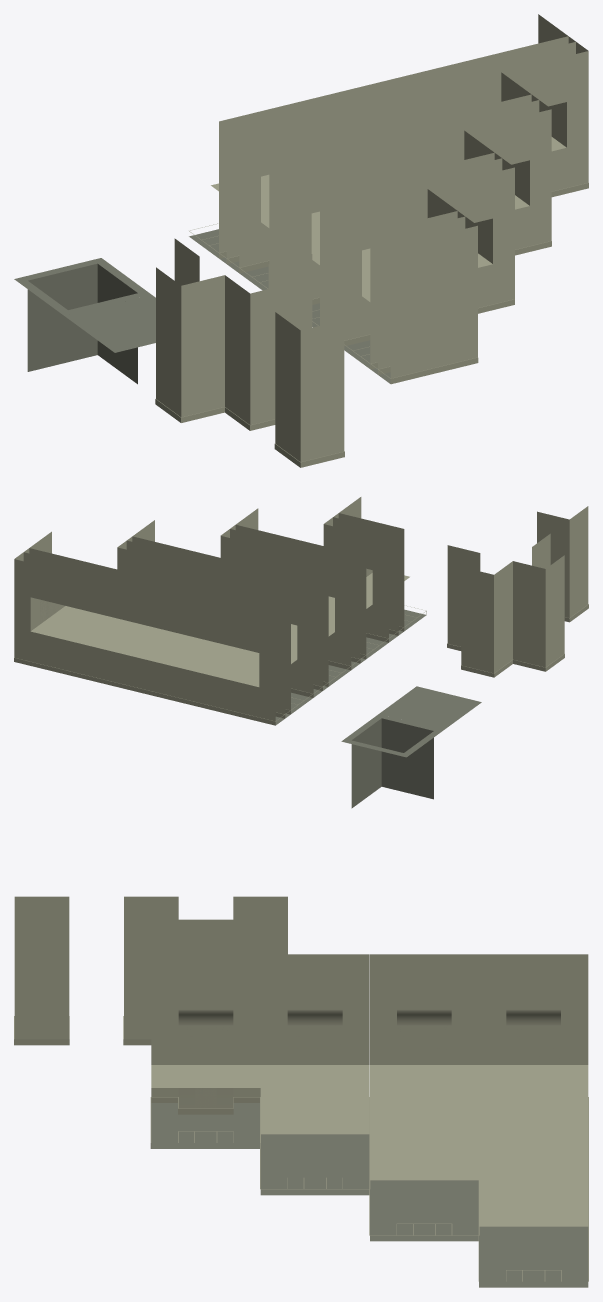
File: backroom.glb
3 renders of one model, top to bottom at view 1: azimuth 30°, elevation 25°; view 2: azimuth 150°, elevation 25°; view 3: azimuth 270°, elevation 25°, orthographic. The views are drawn at different scales.
Visible parts, largest first — view 1: pillar_1, hole_4, hole_3, hole_2, wall_1, pillar_2, floor_2, arch_4, arch_3, door_4, arch_2, hole_1 (+8 smaller); view 2: hole_4, pillar_1, hole_3, floor_2, hole_2, arch_4, pillar_2, hole_1, arch_3, arch_2, door_4, floor_0 (+4 smaller); view 3: hole_4, hole_3, hole_2, base4, pillar_1, arch_2, base3, door_3, door_1, pillar_2, hole_1, base2 (+5 smaller).
Part boxes in pixels (x1,y1,x2,y2): pillar_1: (155,238,312,430); hole_4: (190,51,588,273); hole_3: (261,109,551,304); hole_2: (312,167,514,346); wall_1: (390,225,478,384); pillar_2: (274,312,344,467); floor_2: (14,258,151,384); arch_4: (202,42,575,264); arch_3: (252,100,539,276); door_4: (189,28,588,272); arch_2: (312,139,514,323); hole_1: (362,226,477,378); hole_4: (14,559,296,725); pillar_1: (447,533,564,677); hole_3: (117,547,334,697); floor_2: (341,714,443,808); hole_2: (220,536,372,670); arch_4: (23,552,303,718); pillar_2: (537,506,588,622); hole_1: (323,524,409,642); arch_3: (126,540,339,690); arch_2: (230,508,388,663); door_4: (29,531,312,720); floor_0: (379,686,481,729); hole_4: (478,1015,588,1281); hole_3: (369,1015,479,1235); hole_2: (260,1015,370,1188); base4: (479,954,588,1287); pillar_1: (123,896,287,1045); arch_2: (260,954,369,1195); base3: (370,954,478,1241); door_3: (370,954,478,1241); door_1: (151,954,260,1148); pillar_2: (14,896,69,1045); hole_1: (151,1015,260,1142); base2: (260,954,368,1195).
Size of the model in its own units: 12.51 by 5 by 10.52.
